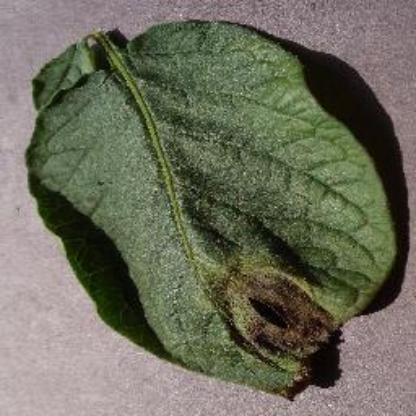Late-Blight: (34, 19, 390, 415)
